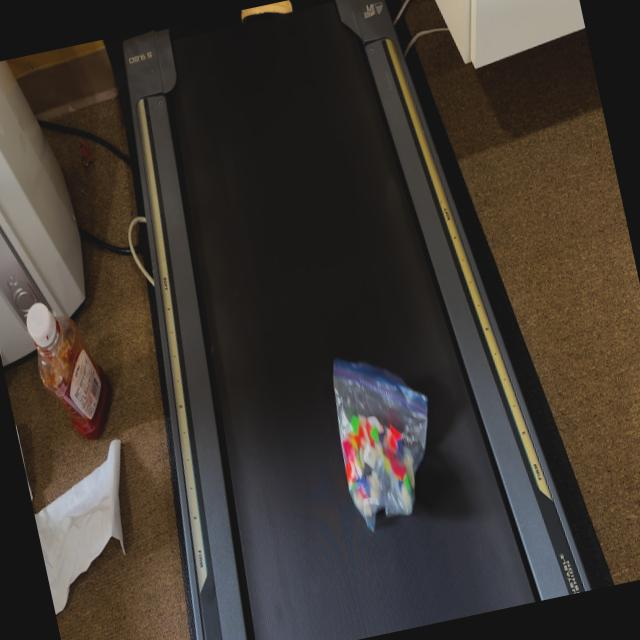Trash: (322, 340, 455, 541)
